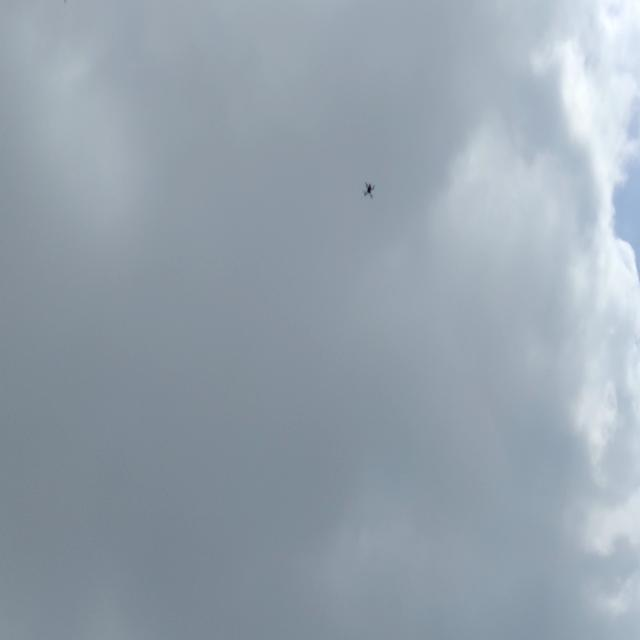drone: (358, 180, 382, 201)
